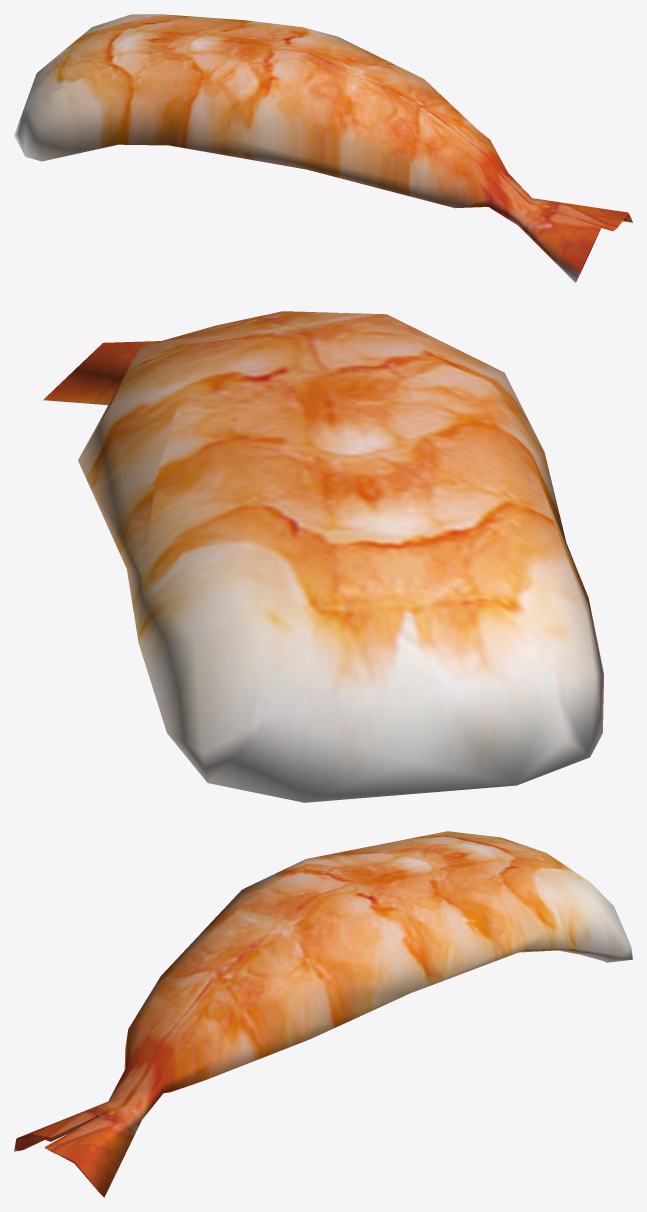
The model's file is _bisashimi.fbx.
3 renders of one model, top to bottom at view 1: azimuth 30°, elevation 25°; view 2: azimuth 150°, elevation 25°; view 3: azimuth 270°, elevation 25°, orthographic. The views are drawn at different scales.
Visible parts, largest first — view 1: Salmon 4.001; view 2: Salmon 4.001; view 3: Salmon 4.001.
Boxes of the visible parts, bbox=[...] form: Salmon 4.001: bbox=[14, 14, 632, 282]; Salmon 4.001: bbox=[43, 311, 603, 802]; Salmon 4.001: bbox=[14, 831, 632, 1197].
Bounding box in the file's own units: 119 × 42.15 × 128.
1 material, 1 textured.
